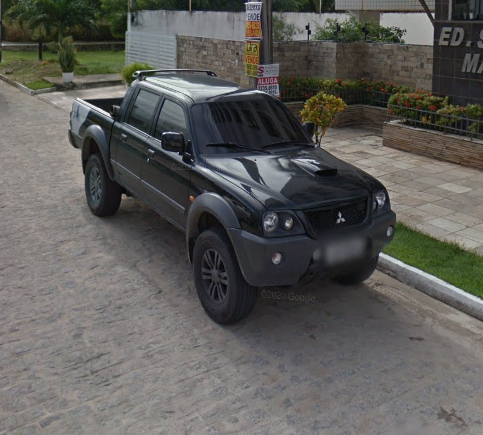car: (66, 69, 399, 327)
